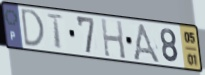7: (75, 15, 98, 56)
8: (159, 28, 180, 64)
A: (131, 22, 162, 66)
D: (20, 7, 46, 48)
H: (99, 17, 127, 61)
T: (45, 12, 66, 51)
